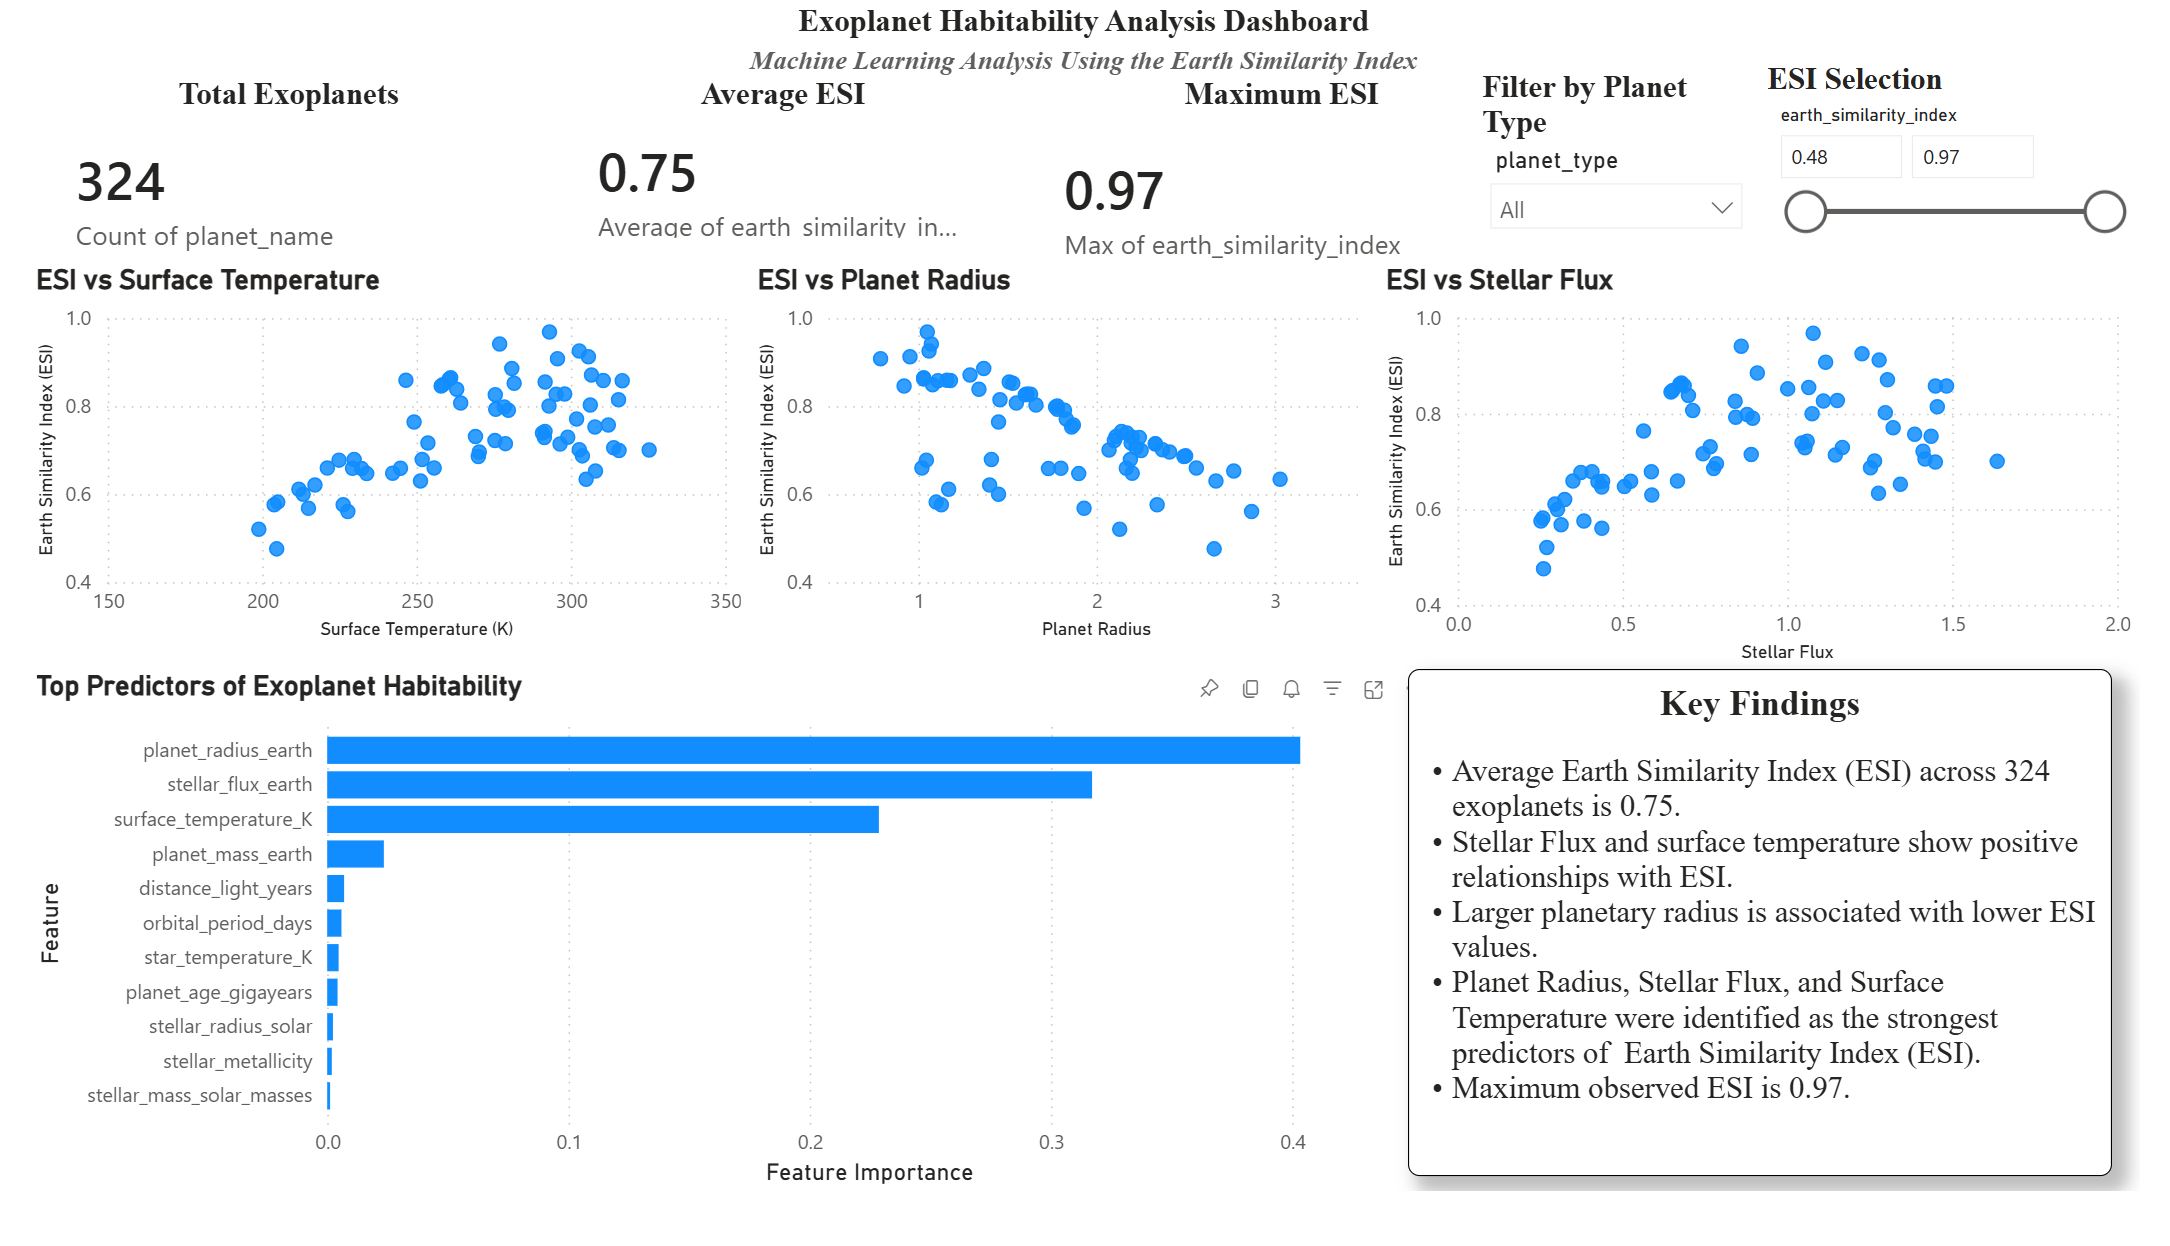

The page's visual inventory and layout, read from the dashboard file:
{"tool":"powerbi","page":{"name":"Page 1","canvas":[1280,720],"ordinal":0},"visuals":[{"type":"cardVisual","title":"Maximum ESI","fields":{"Data":["Max(merged_planets.earth_similarity_index)"]},"box":[599.3,44.7,321.4,136.5],"z":0},{"type":"cardVisual","title":"Total Exoplanets","fields":{"Data":["CountNonNull(merged_planets.planet_name)"]},"box":[0,45,316,126.2],"z":1000},{"type":"cardVisual","title":"Average ESI","fields":{"Data":["Avg(merged_planets.earth_similarity_index)"]},"box":[316,45,282.3,114.9],"z":2000},{"type":"textbox","title":"Exoplanet Habitability Analysis Dashboard","box":[0,0,1279.6,44.7],"z":3000},{"type":"scatterChart","title":"ESI vs Planet Radius","fields":{"Y":["merged_planets.earth_similarity_index"],"X":["merged_planets.planet_radius_earth"]},"box":[437.2,157.4,381,232.4],"z":4000},{"type":"scatterChart","title":"ESI vs Stellar Flux","fields":{"Y":["merged_planets.earth_similarity_index"],"X":["merged_planets.stellar_flux_earth"]},"box":[818.5,157.6,460.7,246.2],"z":5000},{"type":"scatterChart","title":"ESI vs Surface Temperature","fields":{"Y":["merged_planets.earth_similarity_index"],"X":["merged_planets.surface_temperature_K"]},"box":[0,157.4,437.2,232.4],"z":7000},{"type":"clusteredBarChart","title":"Top Predictors of Exoplanet Habitability","fields":{"Y":["Sum(feature_importance.Importance)"],"Category":["feature_importance.Feature"]},"box":[0,403.5,852,317.3],"z":7500},{"type":"slicer","title":"Filter by Planet Type","fields":{"Values":["merged_planets.planet_type"]},"box":[876,39.9,172.8,112.4],"z":7501},{"type":"slicer","title":"ESI Selection","fields":{"Values":["merged_planets.earth_similarity_index"]},"box":[1048.8,35,230.8,117.2],"z":7502},{"type":"textbox","box":[836,403.8,426.7,307.5],"z":7503}]}

Visuals, with their boxes in screenshot pixels (x1, y1, x2, y2), scaled from the page's 1280x720 canvas onto the 2170x1246 screenshot:
"Maximum ESI" cardVisual: l=1016, t=77, r=1561, b=314
"Total Exoplanets" cardVisual: l=0, t=78, r=536, b=296
"Average ESI" cardVisual: l=536, t=78, r=1014, b=277
"Exoplanet Habitability Analysis Dashboard" textbox: l=0, t=0, r=2169, b=77
"ESI vs Planet Radius" scatterChart: l=741, t=272, r=1387, b=675
"ESI vs Stellar Flux" scatterChart: l=1388, t=273, r=2169, b=699
"ESI vs Surface Temperature" scatterChart: l=0, t=272, r=741, b=675
"Top Predictors of Exoplanet Habitability" clusteredBarChart: l=0, t=698, r=1444, b=1245
"Filter by Planet Type" slicer: l=1485, t=69, r=1778, b=264
"ESI Selection" slicer: l=1778, t=61, r=2169, b=263
textbox: l=1417, t=699, r=2141, b=1231
